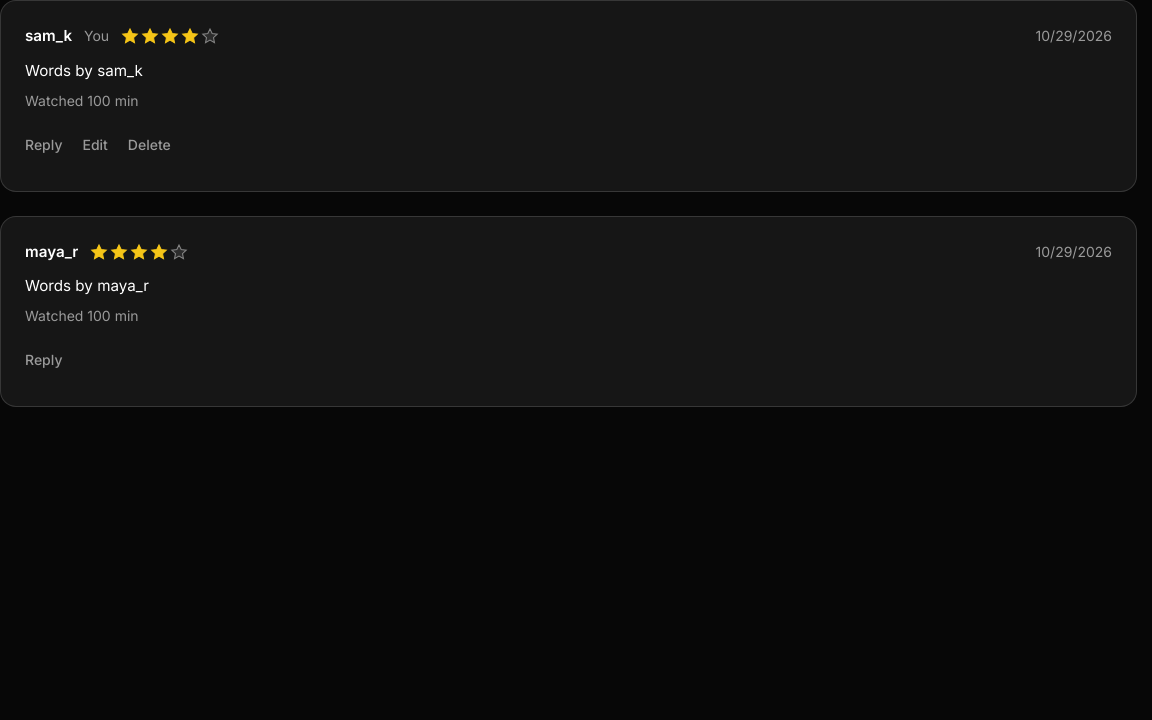
Scenario: review card actions › edits in place: the card turns into the form, then saves, closes and returns focus
Click the button with aria-label "Edit review by sam_k" at (95, 145), box x1=82 y1=123 x2=108 y2=167
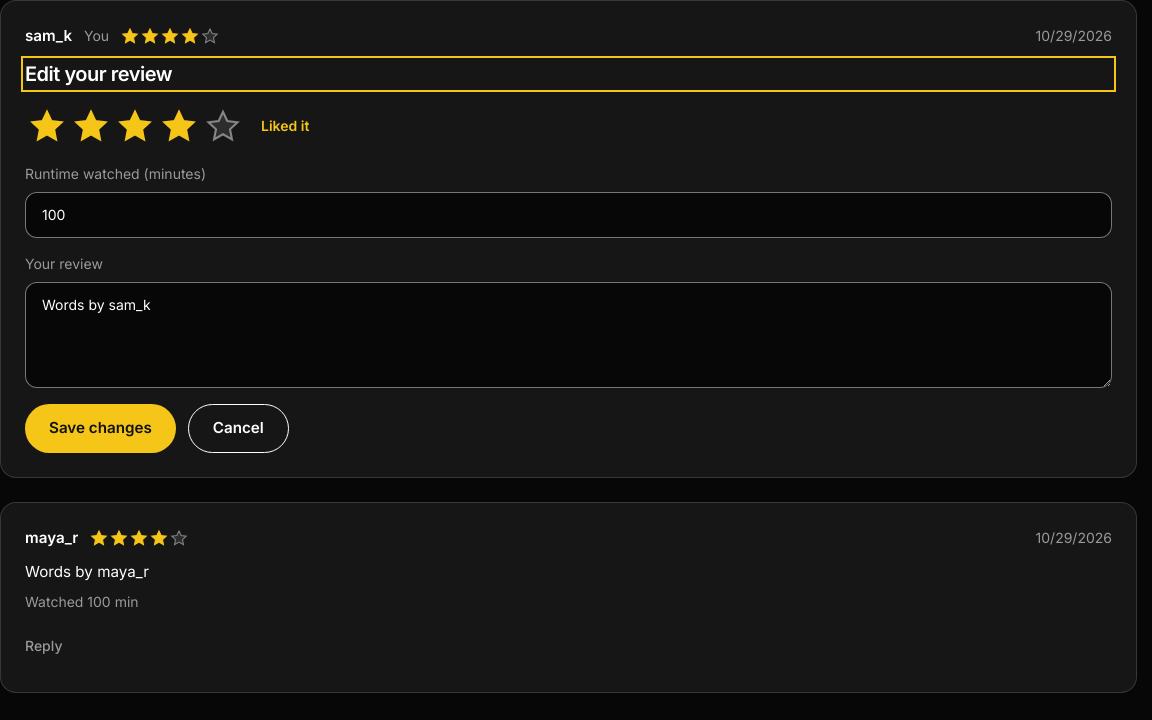
expect the text box labelled "Your review" holds "Words by sam_k": met
Replace the text in the text box labelled "Your review" with "Rewritten" at (568, 335), box x1=25 y1=282 x2=1112 y2=388
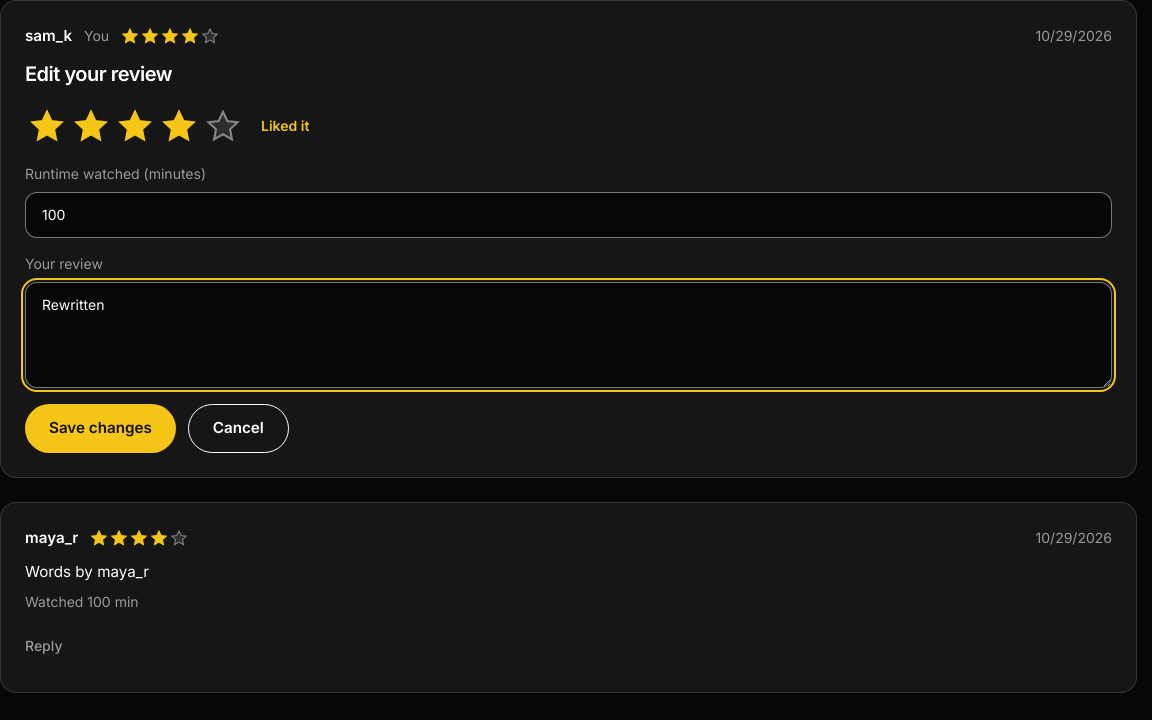
Click the button "Save changes" at (100, 428), box x1=25 y1=404 x2=176 y2=453
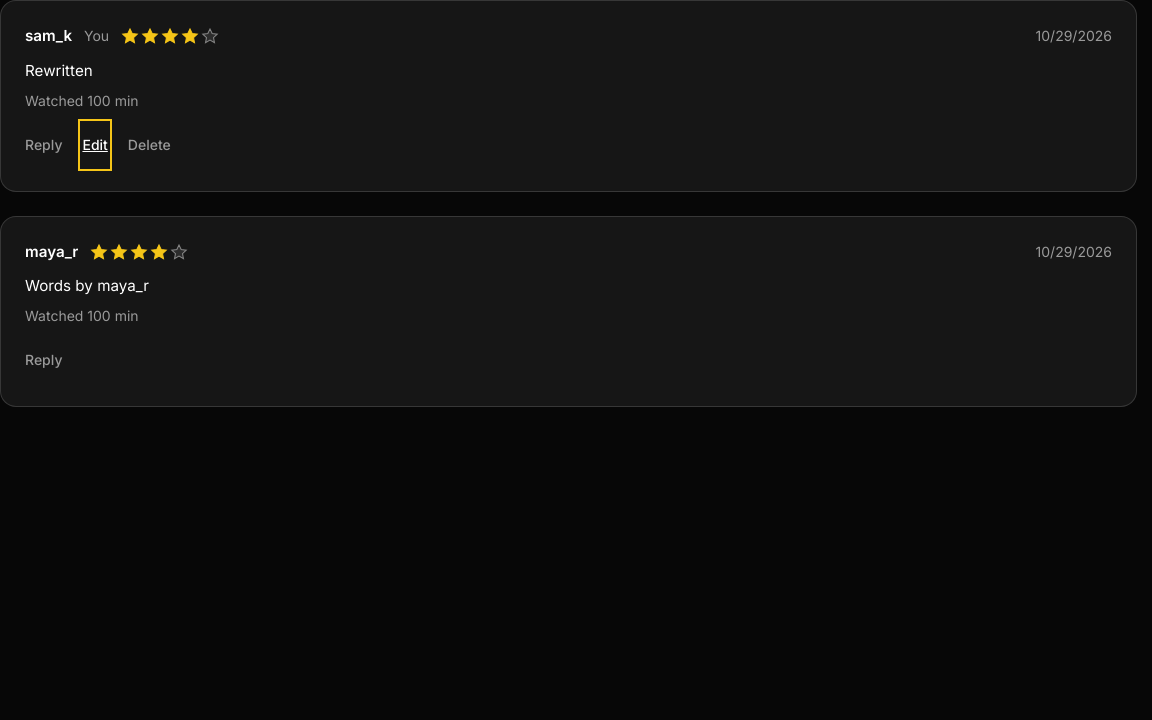
expect the text "Rewritten" is shown: met, box x1=25 y1=61 x2=93 y2=80
expect the heading "Edit your review" is gone: met
